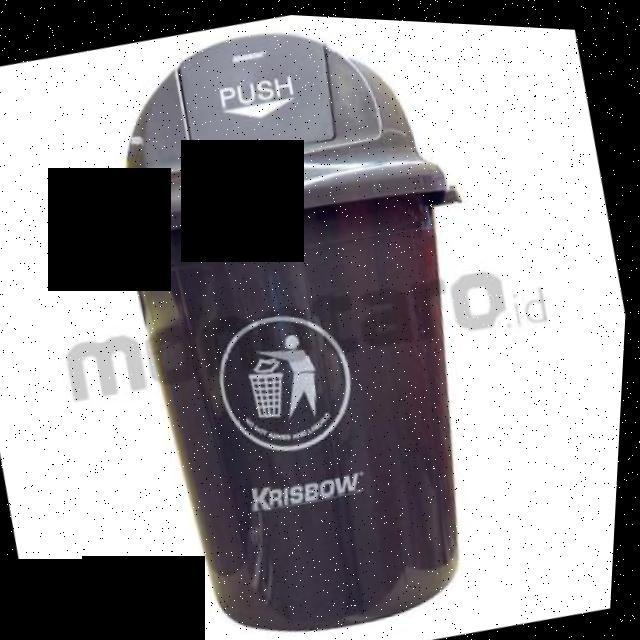bin: (21, 2, 574, 640)
